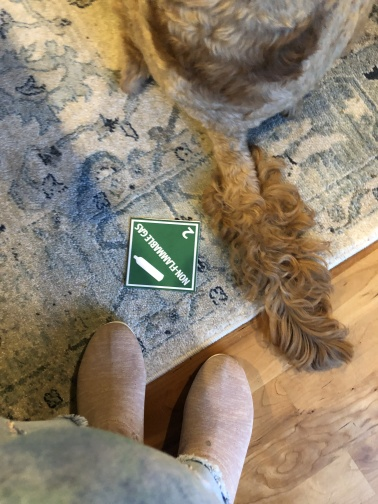NonFlammableGas: (123, 217, 200, 292)
